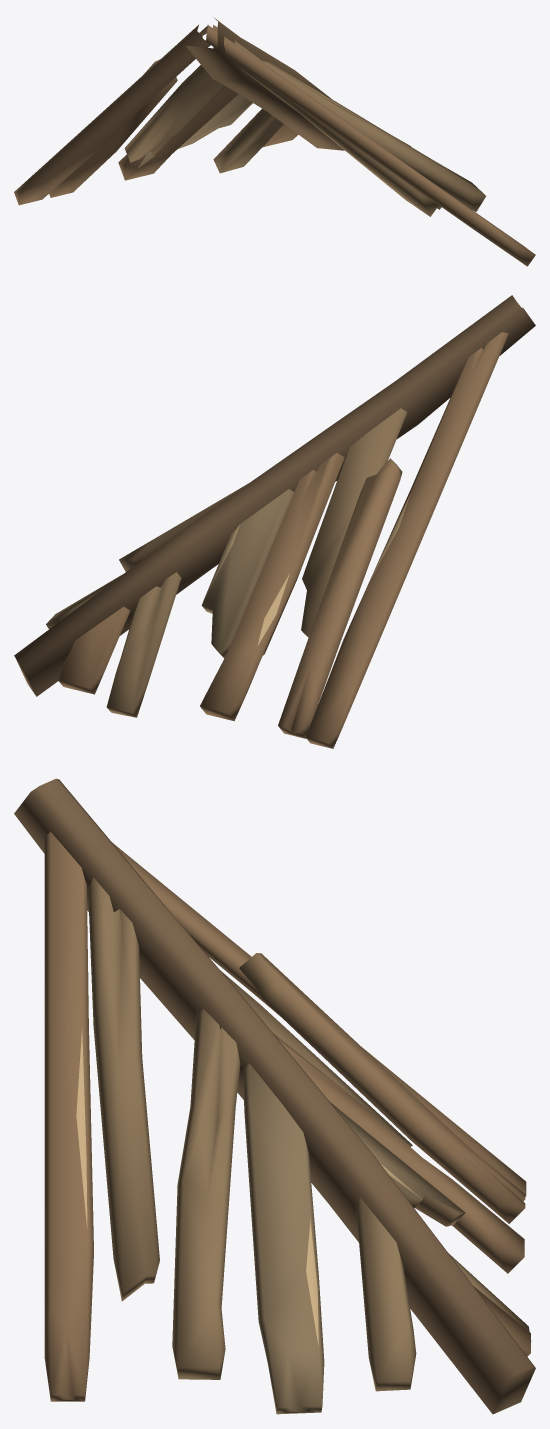
The model's file is rpgpp_av_roof_02_6x3x3_corner_02.gltf.
3 views of the same model, one above another, from view 1: azimuth 30°, elevation 25°; view 2: azimuth 150°, elevation 25°; view 3: azimuth 270°, elevation 25° (orthographic). The views are drawn at different scales.
Visible parts, largest first — view 1: rpgpp_av_roof_02_6x3x3_corner_02; view 2: rpgpp_av_roof_02_6x3x3_corner_02; view 3: rpgpp_av_roof_02_6x3x3_corner_02.
Part boxes in pixels (left/top/right/bottom): rpgpp_av_roof_02_6x3x3_corner_02: left=14, top=18, right=535, bottom=266; rpgpp_av_roof_02_6x3x3_corner_02: left=14, top=295, right=535, bottom=748; rpgpp_av_roof_02_6x3x3_corner_02: left=14, top=778, right=535, bottom=1414.
Size of the model in its own units: 0.0443 by 0.0406 by 0.0442.
Materials: 1 (1 with a texture image).
